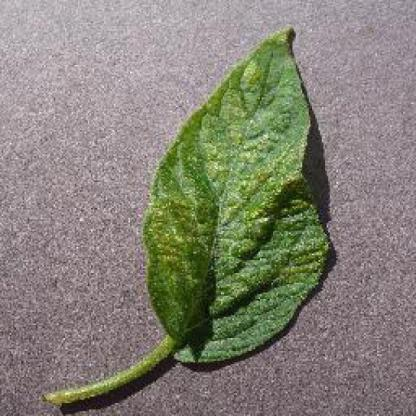Tomato_Spider_Mites: (144, 28, 328, 364)
